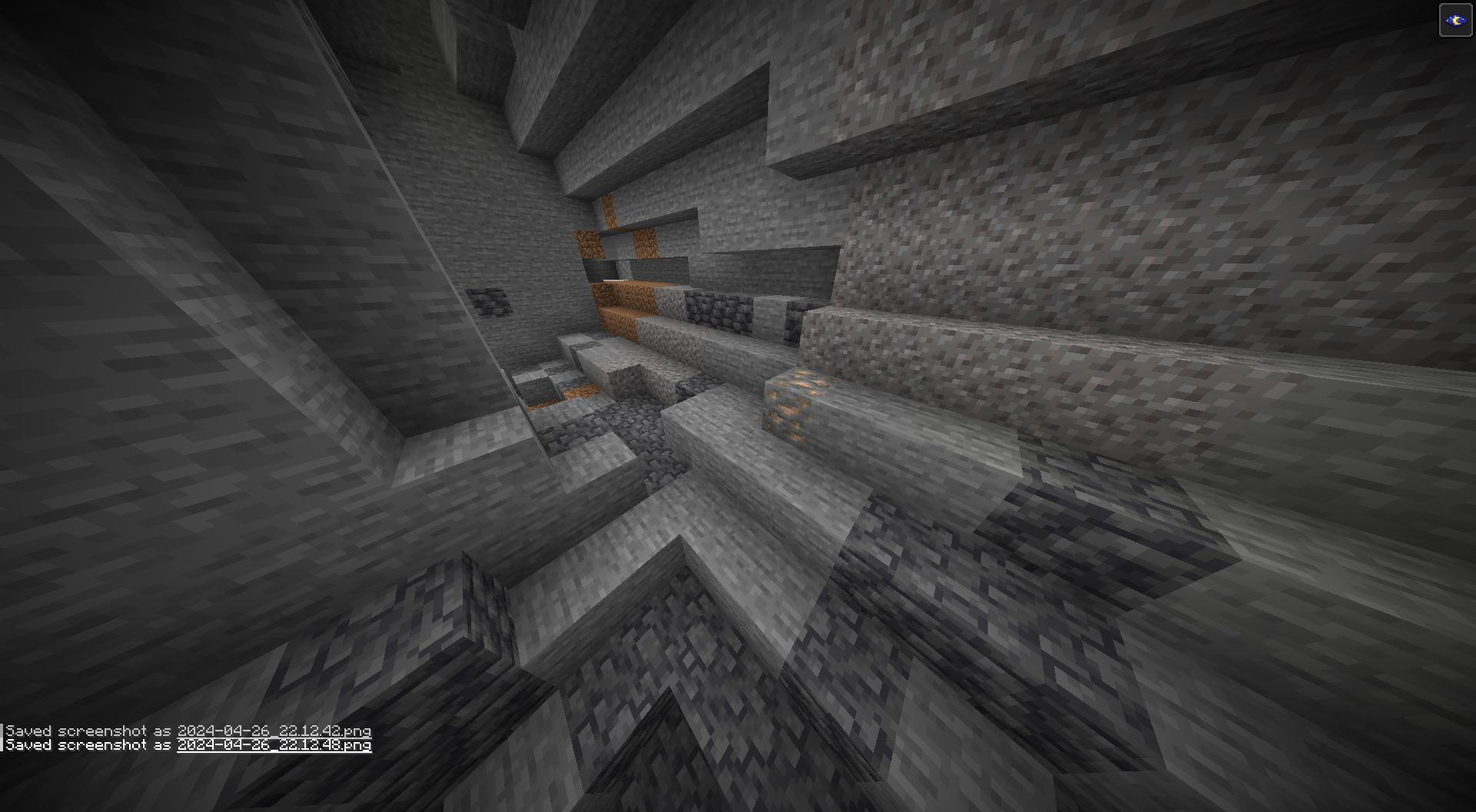iron ore: (757, 365, 841, 444)
